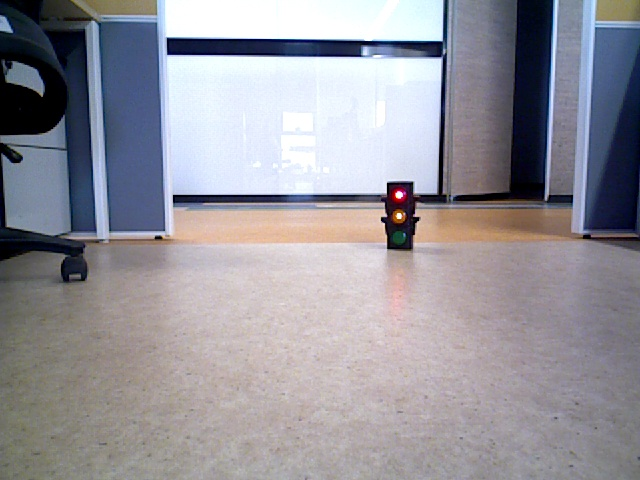red: (388, 183, 410, 246)
